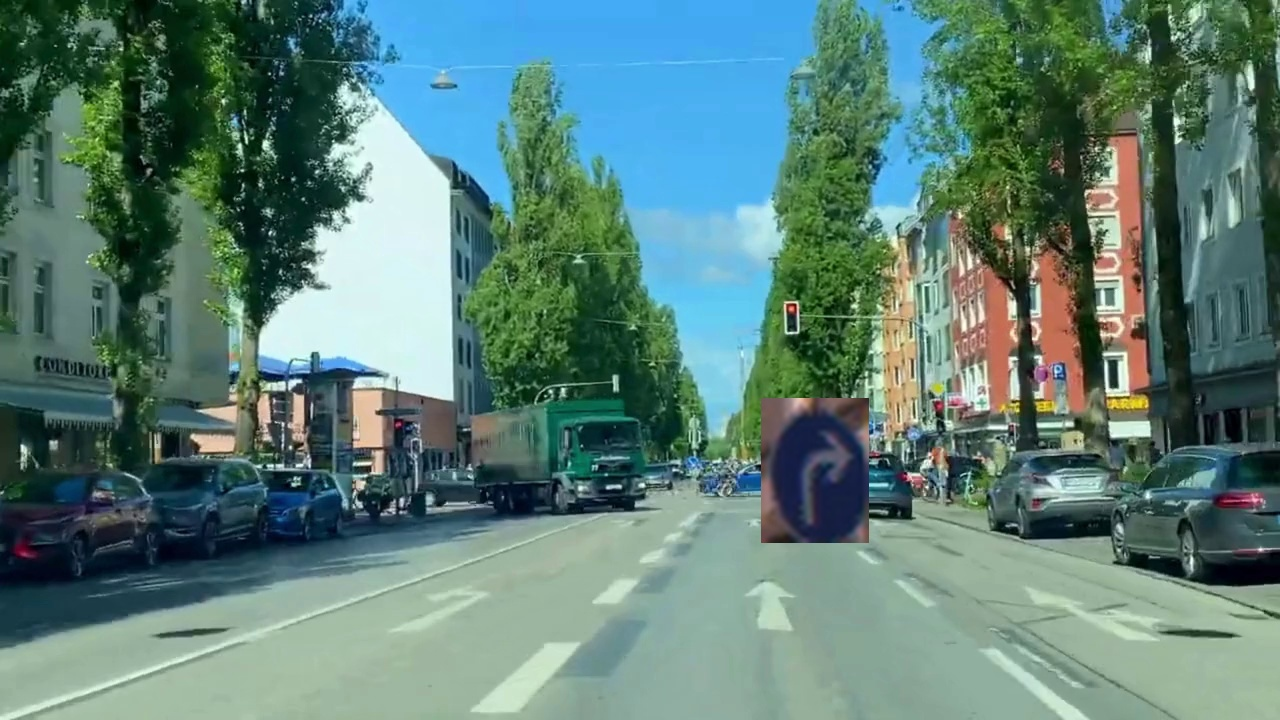Turn right: (761, 398, 869, 543)
